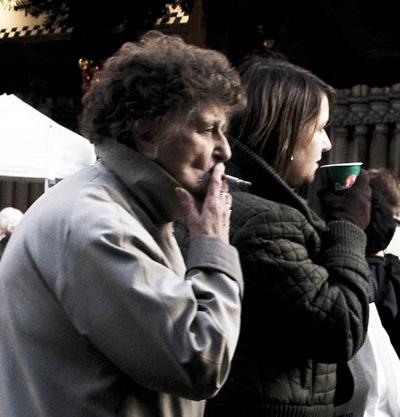person: (2, 30, 246, 414)
